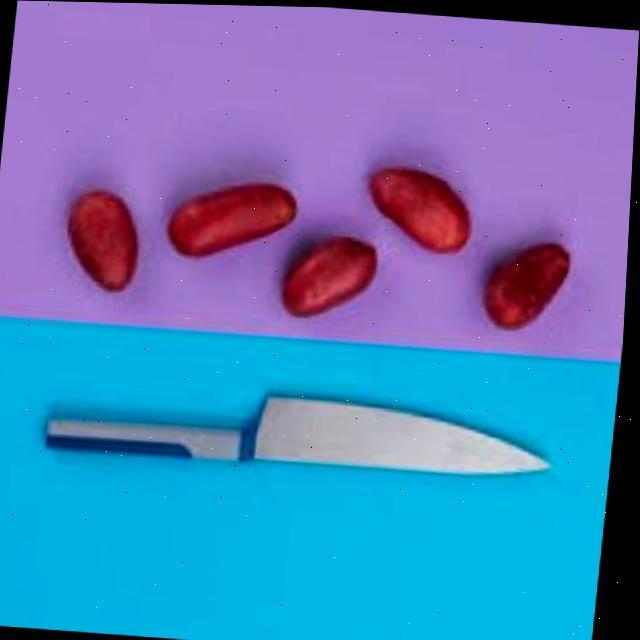knife: (45, 380, 562, 488)
